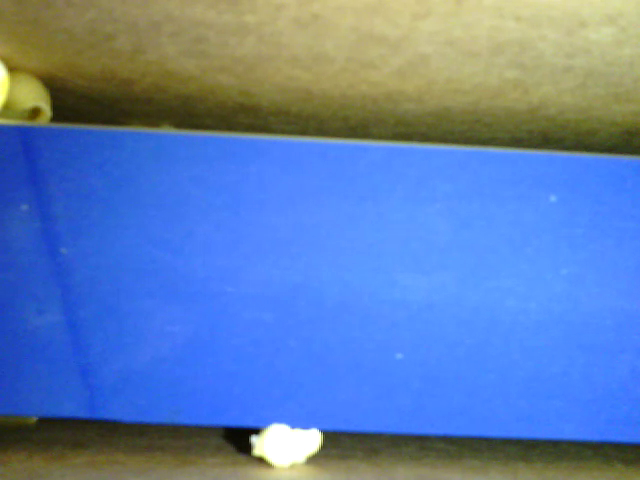shell: (1, 70, 53, 132)
